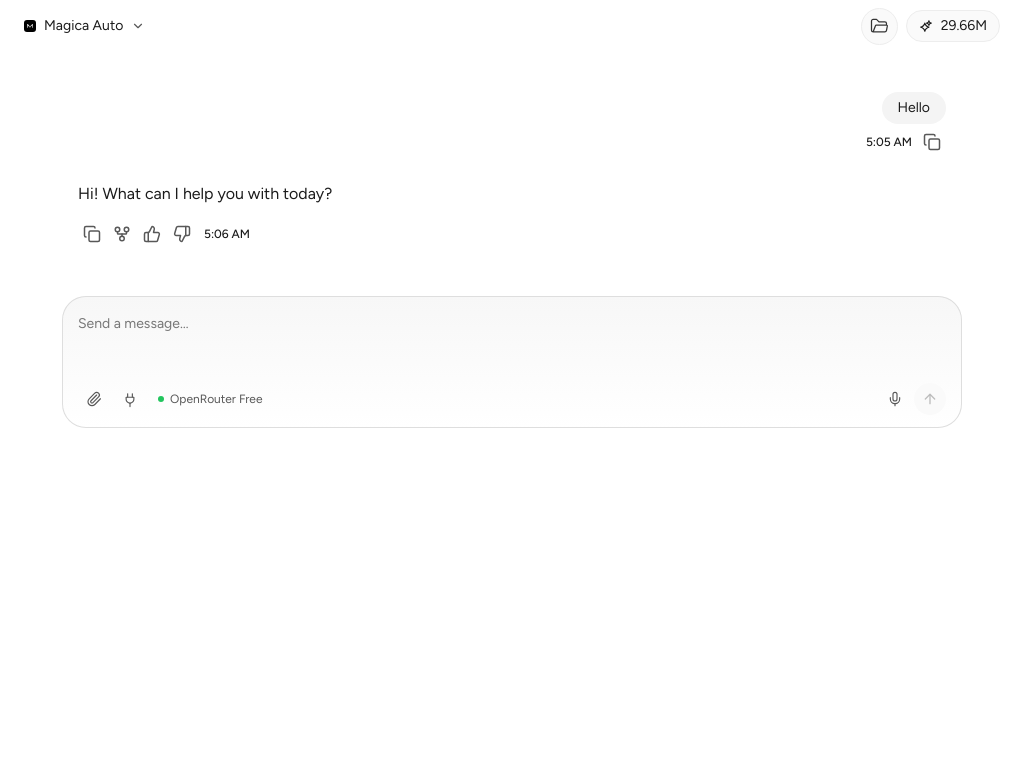
runs and Stop requests that outlive their moment › a Stop left from an earlier send doesn't cancel the next run
The width and height of the screenshot is (1024, 768).
Expected: the text "Hi! What can I help you with today?" is shown, [78,184,332,203]
Type "fresh start" into the text box with placeholder "Send a message…" at (512, 324), box [78,312,946,336]
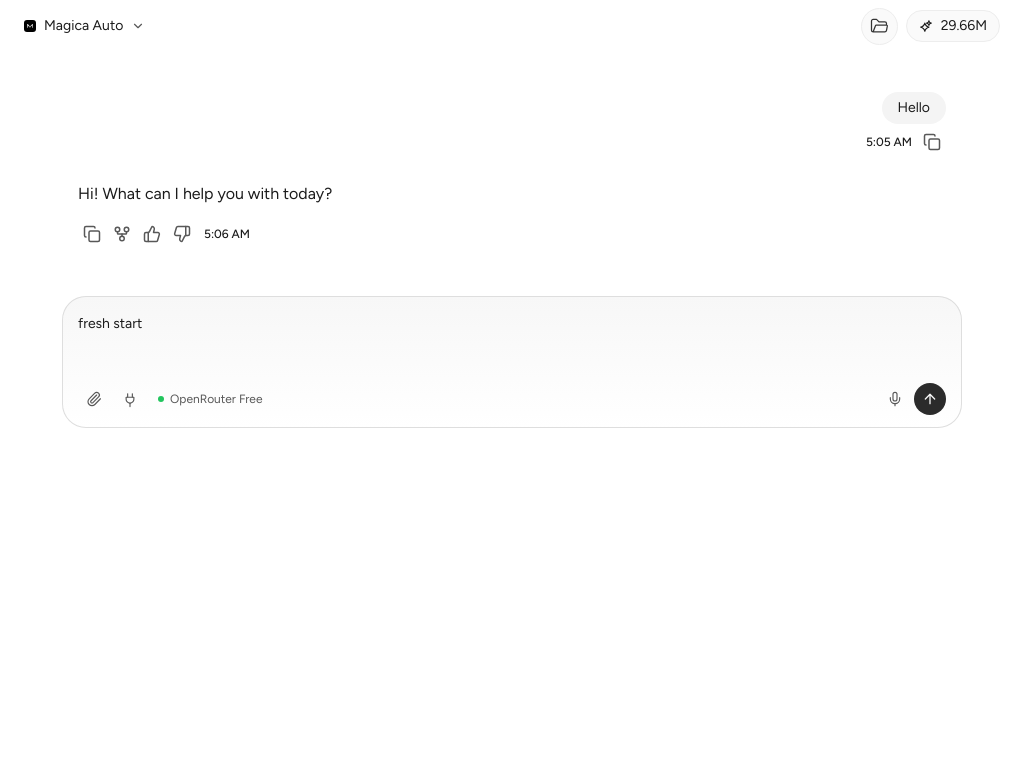
Press Enter
(page scrolled)
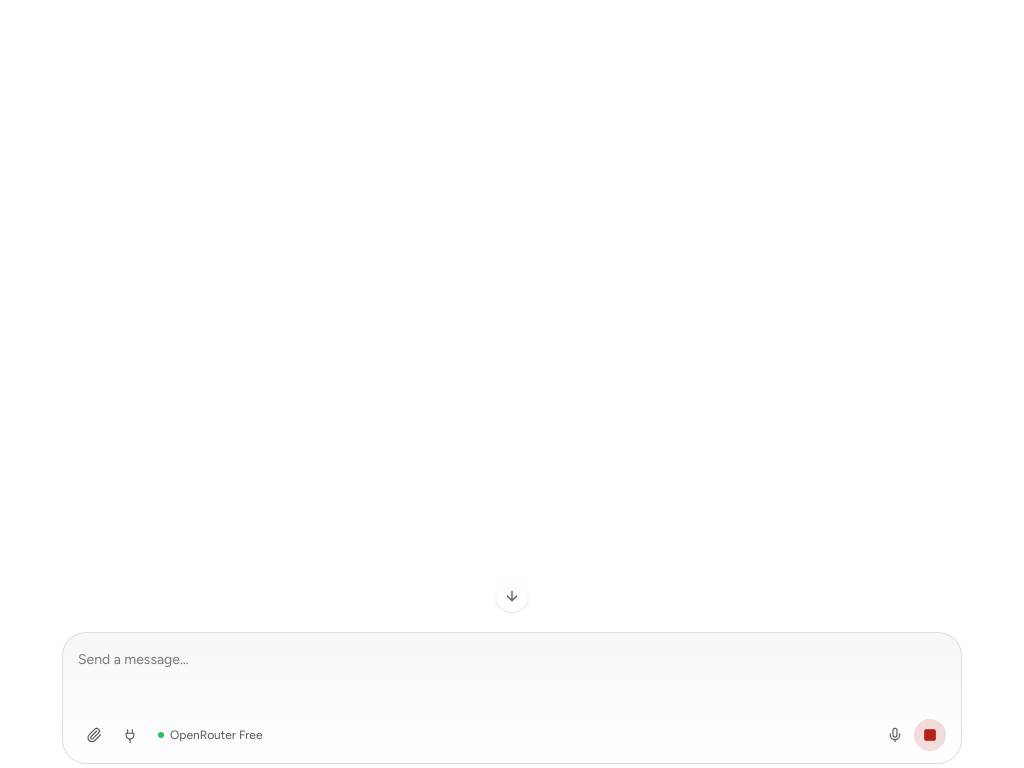
Now the button named "Stop response" is shown, box [914,719,946,751]
